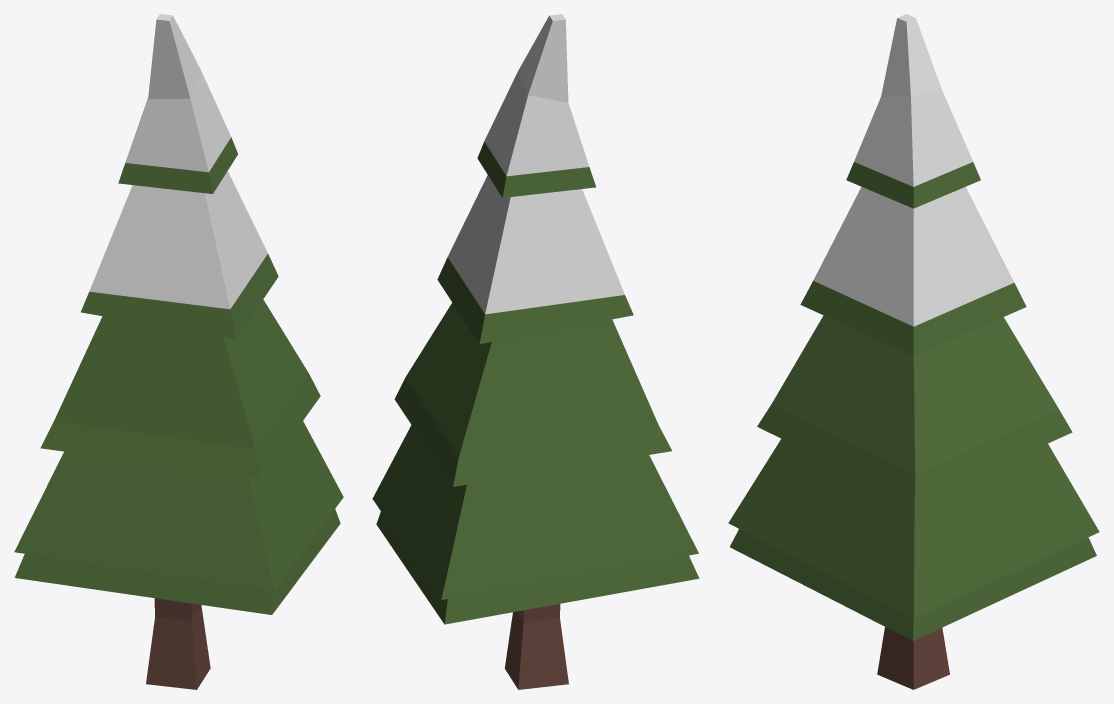
3 views of the same model, side by side, from view 1: azimuth 30°, elevation 25°; view 2: azimuth 150°, elevation 25°; view 3: azimuth 270°, elevation 25° (orthographic). The views are drawn at different scales.
Visible parts, largest first — view 1: Circle.001; view 2: Circle.001; view 3: Circle.001.
Part boxes in pixels (bbox=[...]): Circle.001: bbox=[14, 14, 343, 689]; Circle.001: bbox=[372, 14, 699, 689]; Circle.001: bbox=[728, 14, 1099, 689].
Size of the model in its own units: 1201 by 2318 by 1203.
